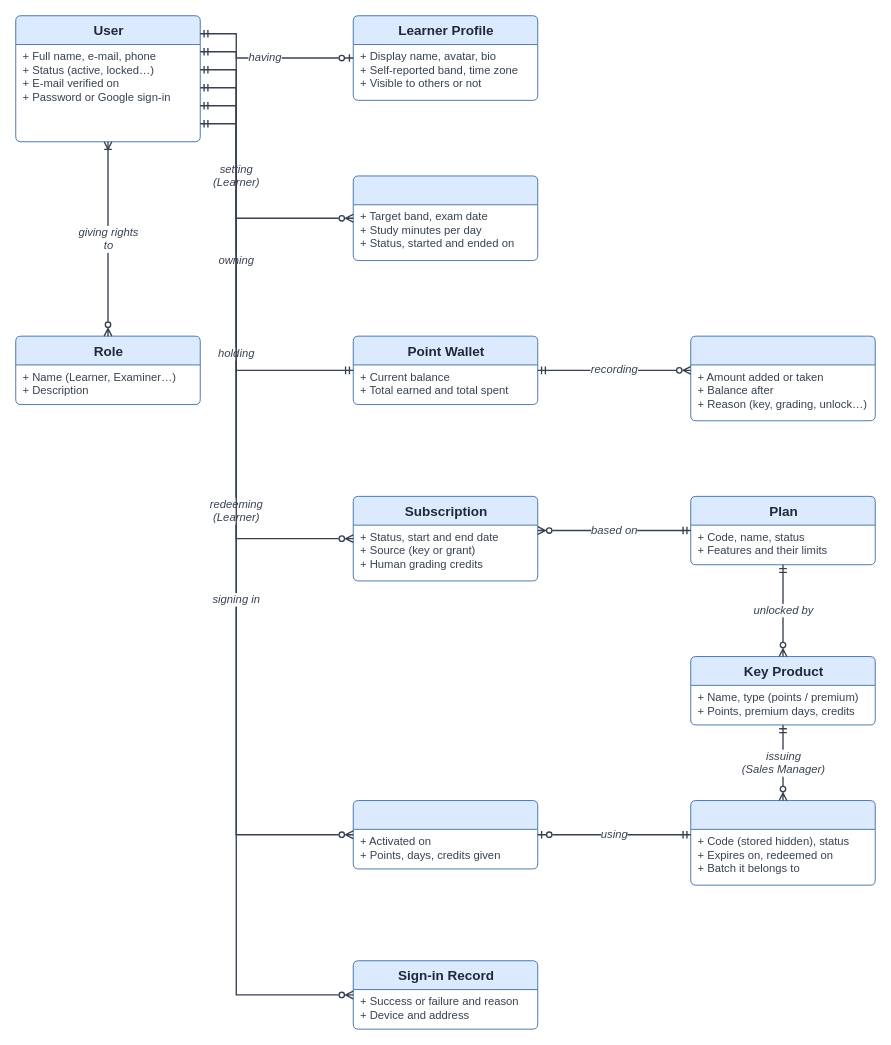
This 891x1045 diagram has some shape labels left out. Each missing label, with the box of its shape:
Activation Key: (690, 800, 875, 885)
Key Activation: (352, 800, 538, 869)
Learning Goal: (352, 175, 538, 261)
Point Ledger Entry: (690, 335, 875, 421)
